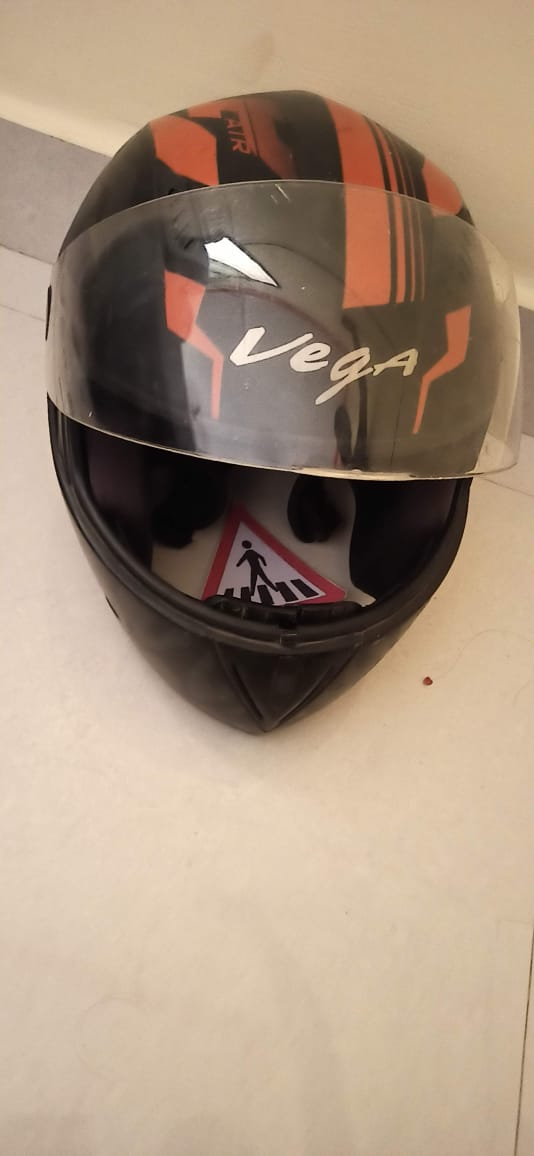PEDESTRIAN CROSSING: (176, 501, 364, 622)
